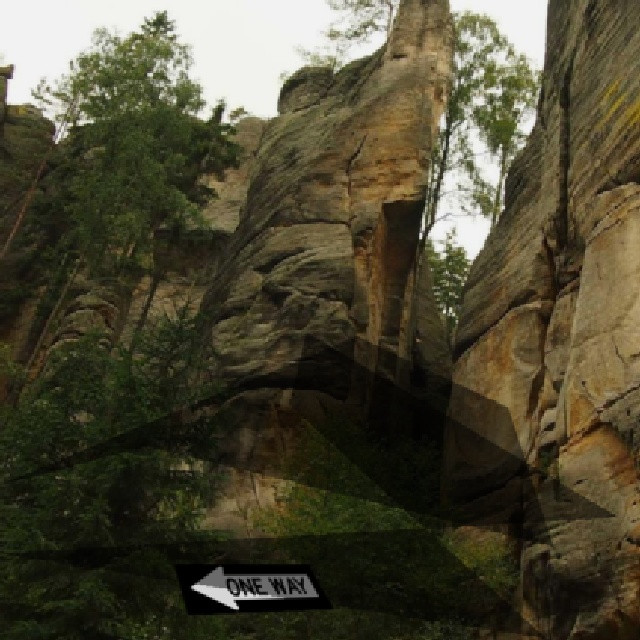ONE_WAY_ left: (172, 562, 333, 614)
